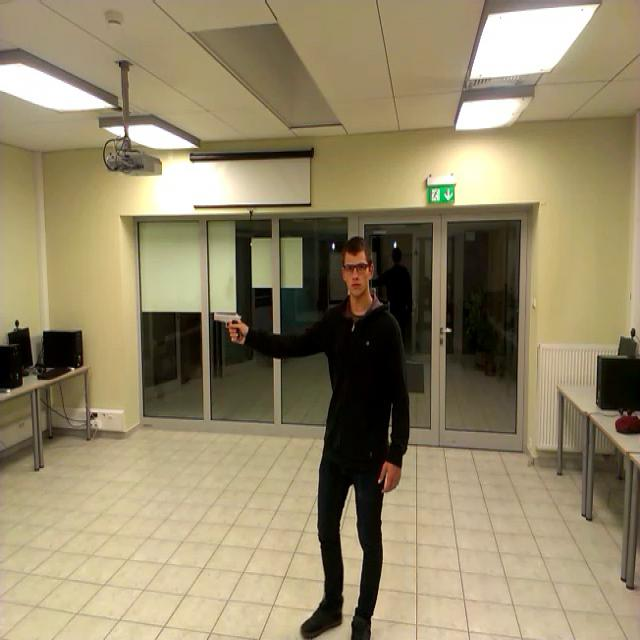handgun: (204, 307, 264, 353)
